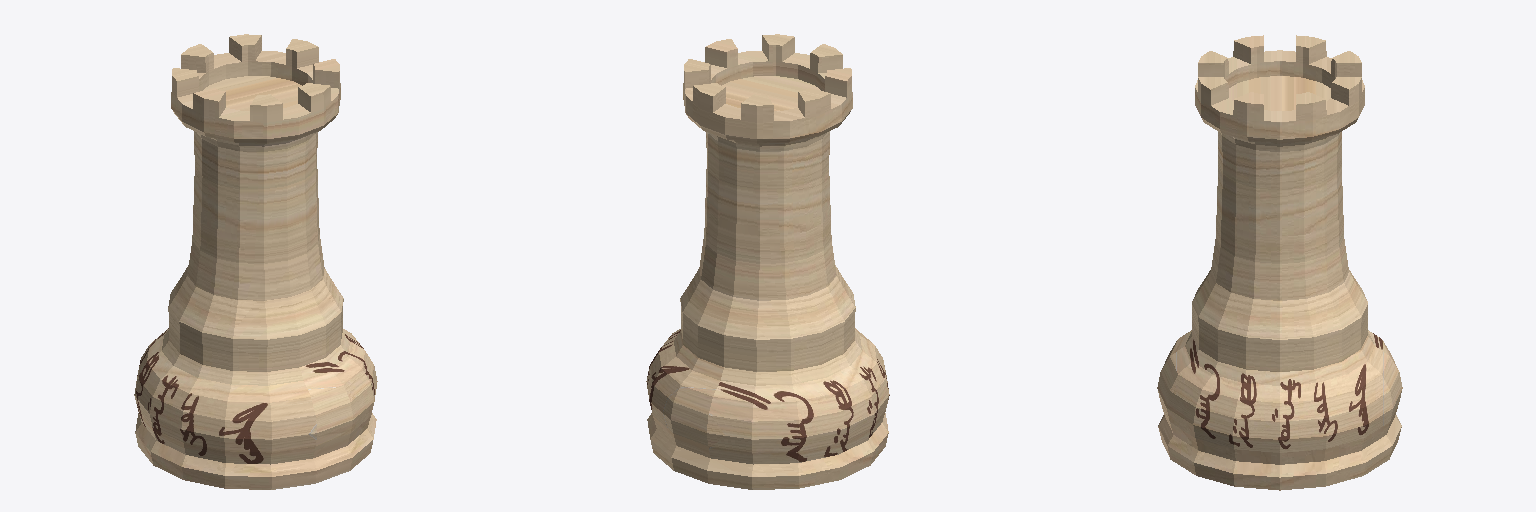
3 views of the same model, side by side, from view 1: azimuth 30°, elevation 25°; view 2: azimuth 150°, elevation 25°; view 3: azimuth 270°, elevation 25° (orthographic).
Visible parts, largest first — view 1: Torre; view 2: Torre; view 3: Torre.
Part boxes in pixels (x1,y1,x2,y2): Torre: (134,34,377,489); Torre: (646,34,889,489); Torre: (1157,35,1402,490).
Size of the model in its own units: 0.6309 by 1.06 by 0.6309.
Materials: 2 (2 with a texture image).